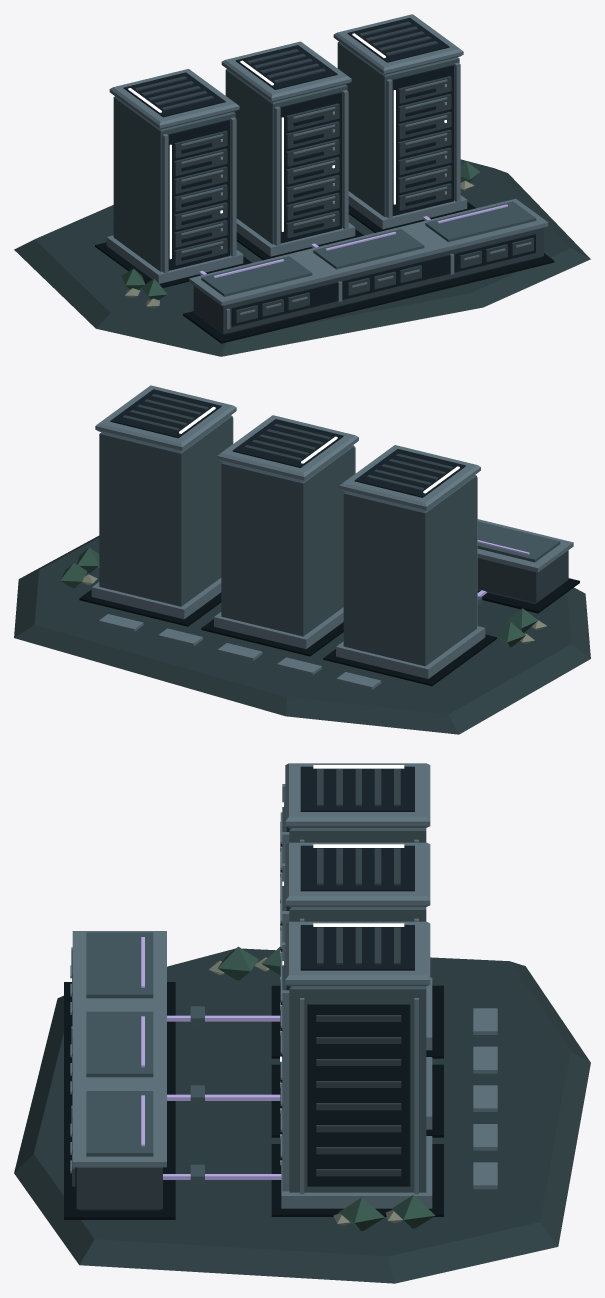
File: district-infrastructure.glb
The picture shows the model from 3 angles, top to bottom: view 1: azimuth 30°, elevation 25°; view 2: azimuth 150°, elevation 25°; view 3: azimuth 270°, elevation 25°; orthographic projection. The views are drawn at different scales.
Visible parts, largest first — view 1: regional-rise, node-volume (×3), decoration-equipment (×4), decoration-metal (×4), decoration-dark (×4), node-face (×3), decoration-roof, node-top (×3), shared-surface, shared-layer, shared-contact, node-contact (×3) (+2 smaller); view 2: node-volume (×3), regional-rise, decoration-metal (×4), node-top (×3), decoration-dark (×3), node-contact (×3), decoration-equipment (×3), shared-layer, decoration-roof, decoration-foliage, shared-surface, shared-contact; view 3: regional-rise, decoration-dark (×3), decoration-roof, node-top (×3), node-volume (×3), decoration-metal (×4), shared-surface, decoration-equipment (×3), node-contact (×3), shared-contact, shared-layer, decoration-foliage (+1 smaller).
Part boxes in pixels (<box>): regional-rise: <box>14,159,590,356</box>; node-volume (×3): <box>113,42,459,271</box>; decoration-equipment (×4): <box>134,21,533,322</box>; decoration-metal (×4): <box>106,62,531,329</box>; decoration-dark (×4): <box>123,17,535,326</box>; node-face (×3): <box>168,65,453,270</box>; decoration-roof: <box>201,201,536,296</box>; node-top (×3): <box>109,14,463,129</box>; shared-surface: <box>189,198,548,305</box>; shared-layer: <box>193,227,543,334</box>; shared-contact: <box>183,253,554,343</box>; node-contact (×3): <box>95,202,475,287</box>; node-volume (×3): <box>99,415,476,666</box>; regional-rise: <box>14,535,590,734</box>; decoration-metal (×4): <box>91,417,485,689</box>; node-top (×3): <box>95,385,480,510</box>; decoration-dark (×3): <box>110,389,465,497</box>; node-contact (×3): <box>79,589,496,686</box>; decoration-equipment (×3): <box>122,394,452,491</box>; shared-layer: <box>477,550,568,604</box>; decoration-roof: <box>477,521,560,605</box>; decoration-foliage: <box>60,547,538,647</box>; shared-surface: <box>477,519,573,572</box>; shared-contact: <box>477,578,579,613</box>; regional-rise: <box>14,948,590,1283</box>; decoration-dark (×3): <box>280,766,414,1186</box>; decoration-roof: <box>86,932,204,1183</box>; node-top (×3): <box>285,763,430,986</box>; node-volume (×3): <box>289,828,426,1192</box>; decoration-metal (×4): <box>70,784,497,1208</box>; shared-surface: <box>72,931,166,1167</box>; decoration-equipment (×3): <box>282,769,401,1176</box>; node-contact (×3): <box>271,985,443,1216</box>; shared-contact: <box>64,982,175,1219</box>; shared-layer: <box>76,1167,162,1210</box>; decoration-foliage: <box>217,946,435,1231</box>.
Size of the model in its own units: 7.74 by 2.75 by 5.7.
